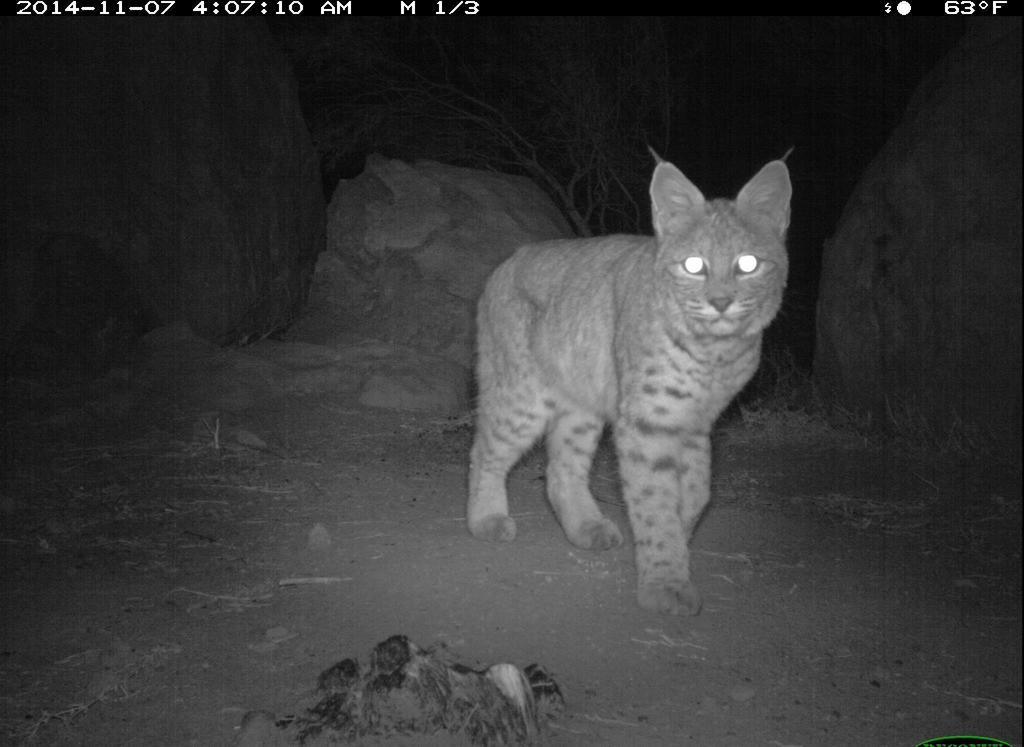bobcat: (457, 152, 798, 626)
